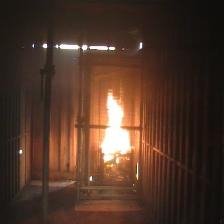fire: (102, 89, 133, 163)
